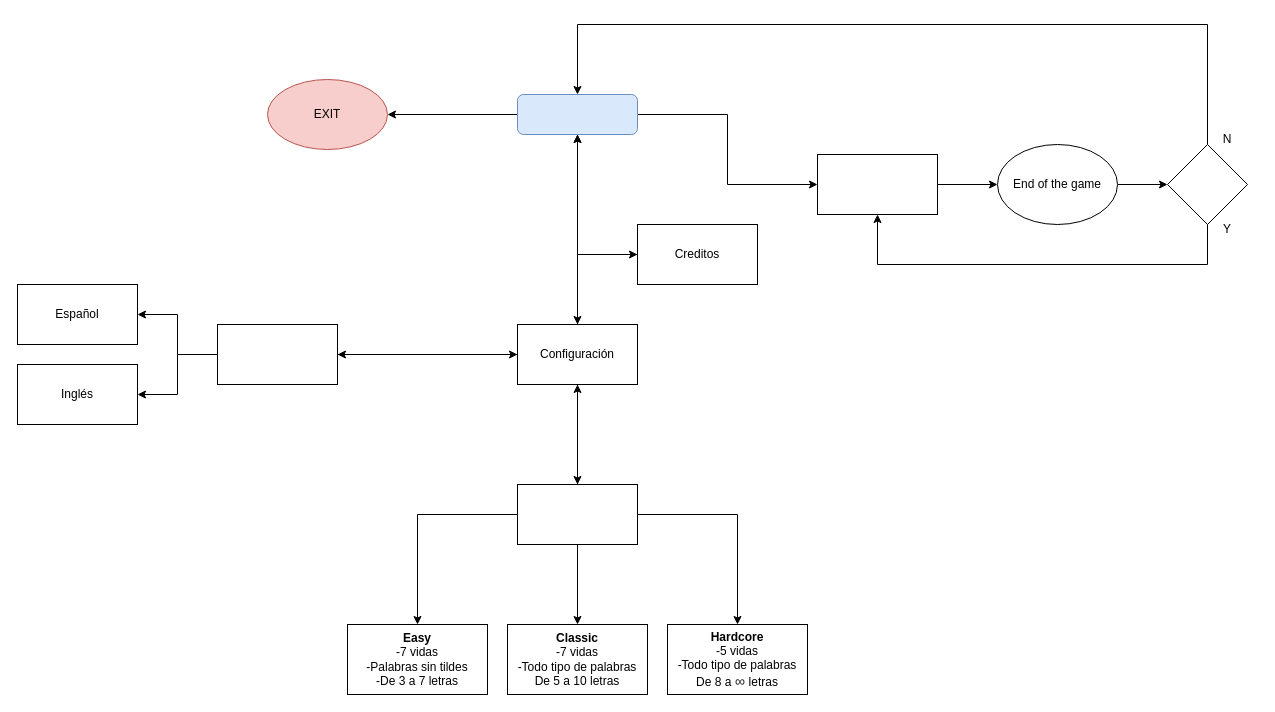
Some shapes in this 1275 by 712 pixel diagram are drawn without their labels. Here are the shapes that lost their labels. From the top down, the centre of each, then its label:
the point at 577,114: Menu Principal
the point at 877,184: Play
the point at 1207,184: Play Again?
the point at 277,354: Idioma
the point at 577,514: Dificultad
